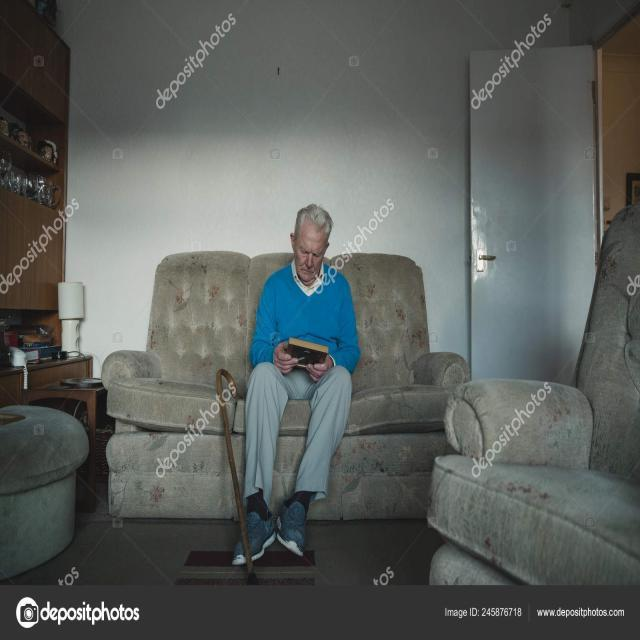NotFall: (131, 218, 448, 619)
